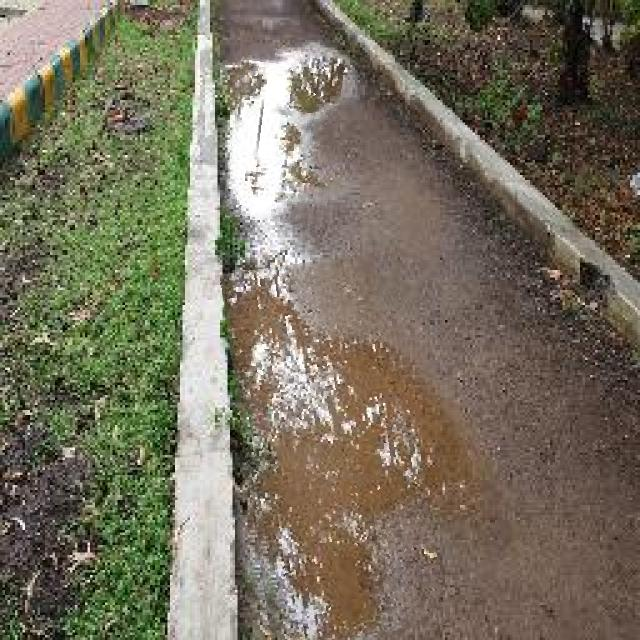puddle: (234, 256, 435, 640), (228, 45, 341, 226)
